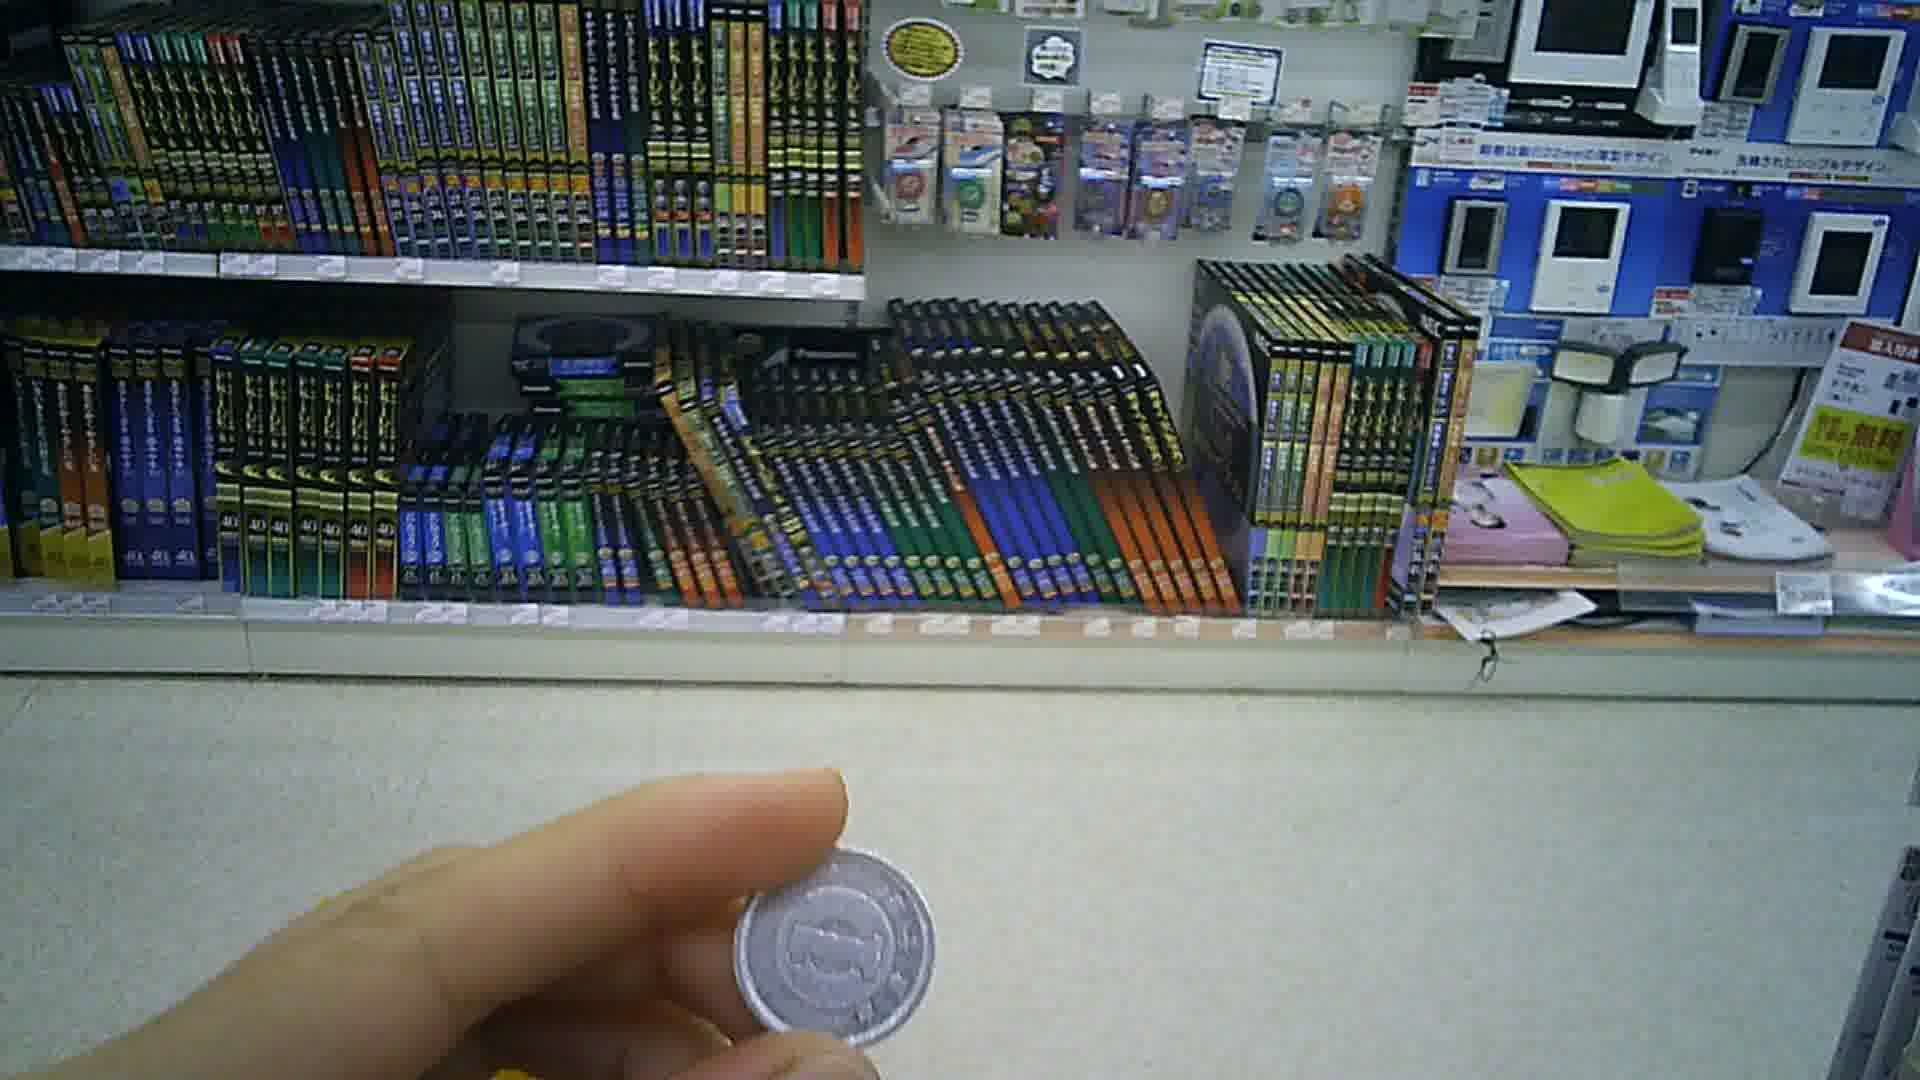1 Yen: (737, 836, 932, 1039)
